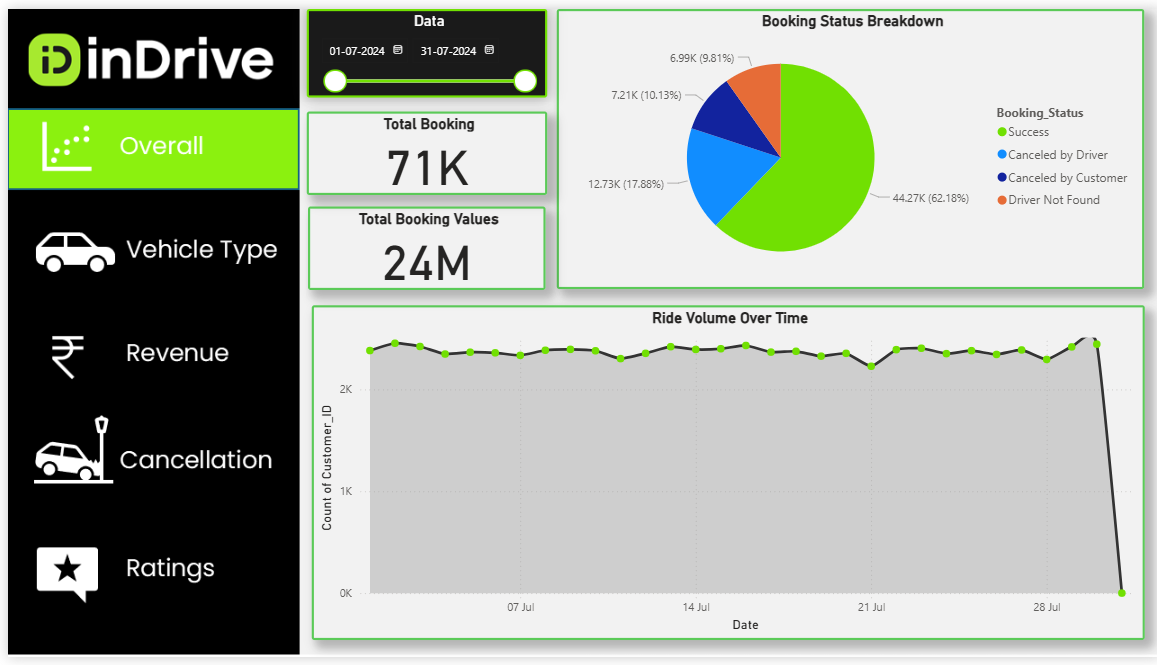

The dashboard page shown, as its layout file describes it:
{"tool":"powerbi","page":{"name":"Overall","canvas":[1280,720],"ordinal":1},"visuals":[{"type":"areaChart","title":"Ride Volume Over Time","fields":{"Category":["Bengaluru_inDrive_Booking_Data_01.Date"],"Y":["CountNonNull(Bengaluru_inDrive_Booking_Data_01.Customer_ID)"]},"box":[337.3,329.3,925.3,372],"z":0},{"type":"pieChart","title":"Booking Status Breakdown","fields":{"Category":["Bengaluru_inDrive_Booking_Data_01.Booking_Status"],"Y":["CountNonNull(Bengaluru_inDrive_Booking_Data_01.Booking_Status)"]},"box":[609.3,0,653.2,311.5],"z":1000},{"type":"slicer","title":"Data","fields":{"Values":["Bengaluru_inDrive_Booking_Data_01.Date"]},"box":[332.5,0,267.5,98.8],"z":2000},{"type":"card","title":"Total Booking","fields":{"Values":["CountNonNull(Bengaluru_inDrive_Booking_Data_01.Customer_ID)"]},"box":[332.5,113.8,267.5,92.5],"z":3000},{"type":"card","title":"Total Booking Values","fields":{"Values":["Sum(Bengaluru_inDrive_Booking_Data_01.Booking_Value)"]},"box":[333.8,218.8,263.8,92.5],"z":4000},{"type":"actionButton","box":[0,218.7,321.3,92],"z":5000},{"type":"actionButton","box":[0,329.3,321.3,92],"z":6000},{"type":"actionButton","box":[0,444,321.3,92],"z":7000},{"type":"actionButton","box":[0,577.3,321.3,92],"z":8000},{"type":"actionButton","box":[0,114.7,321.3,92],"z":9000}]}

Visuals, with their boxes in screenshot pixels (x1, y1, x2, y2), scaled from the page's 1280x720 canvas onto the 1157x665 screenshot:
"Ride Volume Over Time" areaChart: <bbox>305, 304, 1141, 648</bbox>
"Booking Status Breakdown" pieChart: <bbox>551, 0, 1141, 288</bbox>
"Data" slicer: <bbox>301, 0, 542, 91</bbox>
"Total Booking" card: <bbox>301, 105, 542, 191</bbox>
"Total Booking Values" card: <bbox>302, 202, 540, 288</bbox>
actionButton: <bbox>0, 202, 290, 287</bbox>
actionButton: <bbox>0, 304, 290, 389</bbox>
actionButton: <bbox>0, 410, 290, 495</bbox>
actionButton: <bbox>0, 533, 290, 618</bbox>
actionButton: <bbox>0, 106, 290, 191</bbox>
